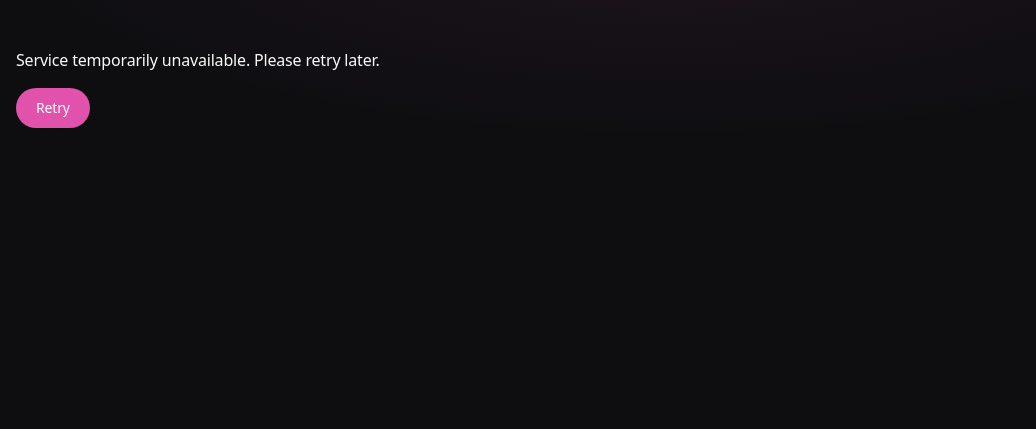
temporary public-profile failure is not falsely reported missing and can recover
The image size is (1036, 429).
expect the message "Service temporarily unavailable. Please retry later. Retry" is shown: met, box [16, 49, 380, 128]
What coordinates should you click on to do the following:
click the button "Retry"
I would click on:
 (53, 108)
Its box is [16, 88, 90, 128].
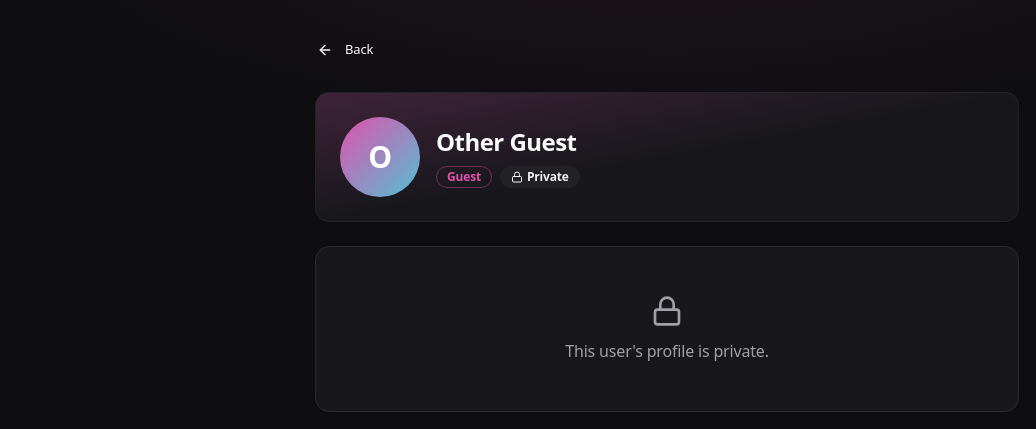
expect the heading "Other Guest" is shown: met, box [436, 125, 576, 158]
